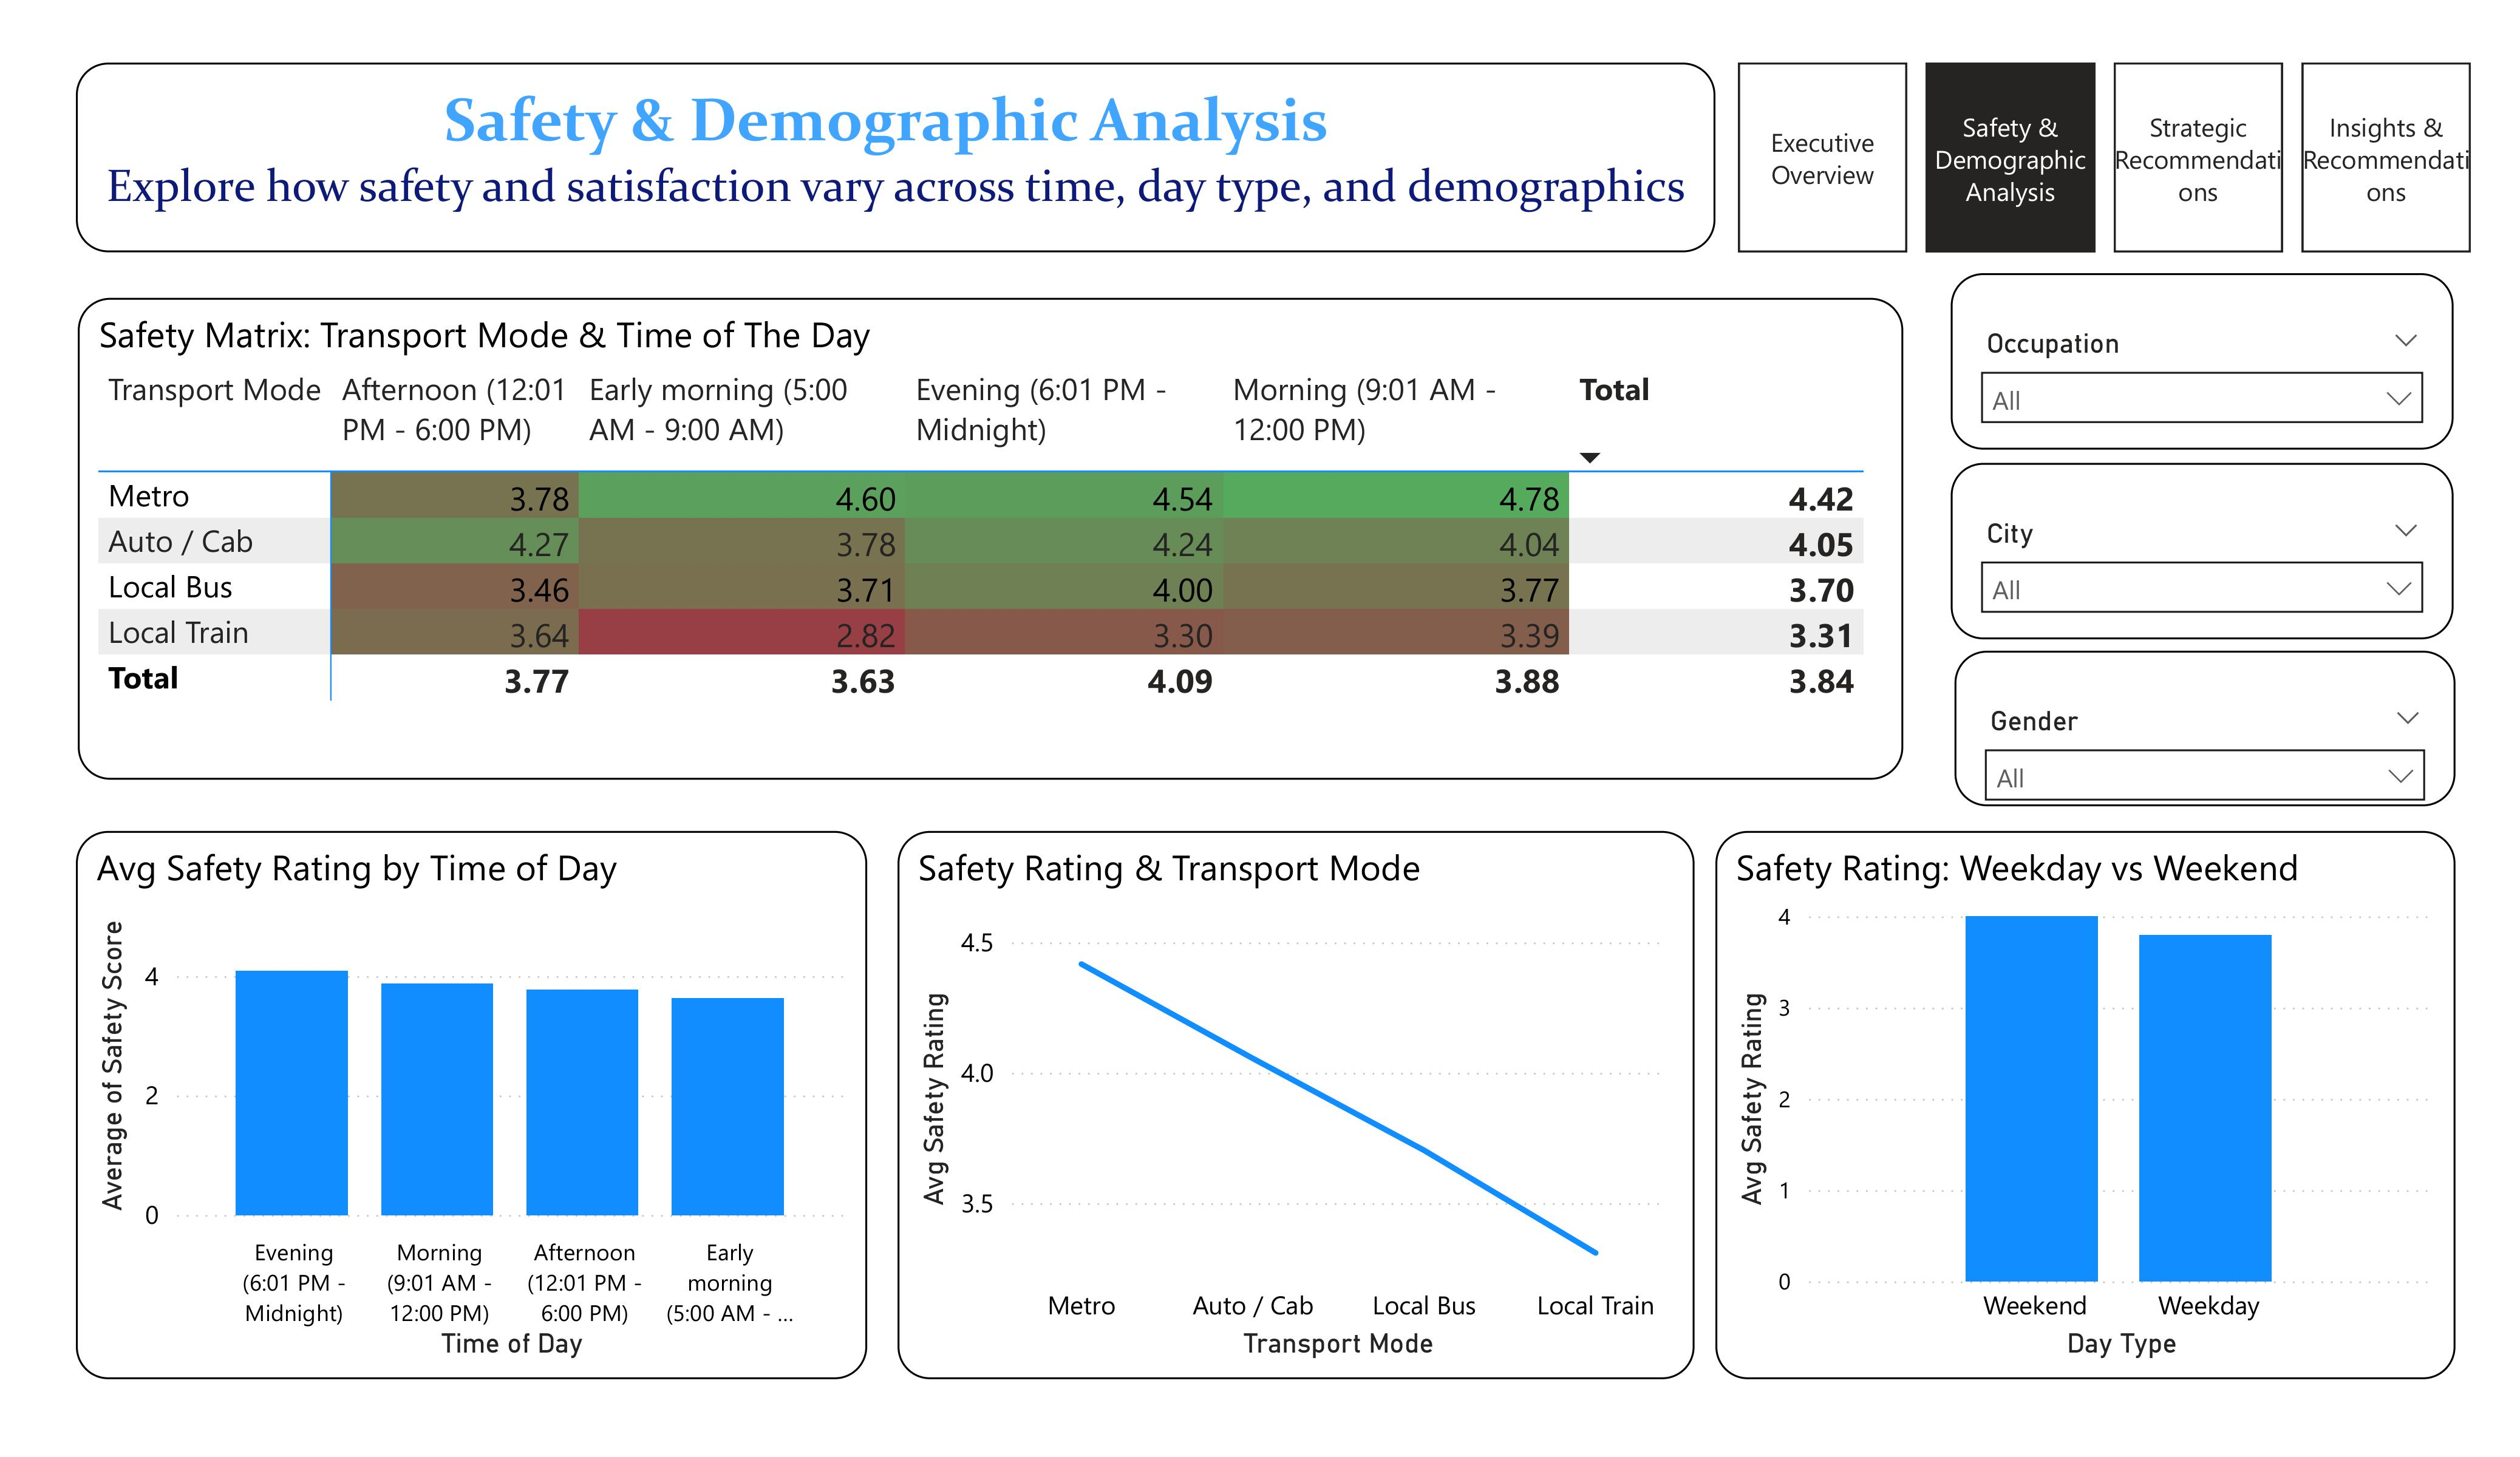

The dashboard page shown, as its layout file describes it:
{"tool":"powerbi","page":{"name":"Safety & Demographic Analysis","canvas":[1280,720],"ordinal":1},"visuals":[{"type":"clusteredColumnChart","title":"Avg Safety Rating by Time of Day","fields":{"Category":["Public Commute Data.Time of Day"],"Y":["DAX Measures.Avg Safety Rating"]},"box":[16.2,120.5,465.8,288],"z":0},{"type":"textbox","box":[16.2,8.8,864,99.9],"z":100},{"type":"slicer","title":"Filter: City","fields":{"Values":["Public Commute Data.City"]},"box":[1003.6,578.9,264.5,99.9],"z":1000},{"type":"slicer","title":"Filter: Gender","fields":{"Values":["Public Commute Data.Gender"]},"box":[1003.6,408.5,264.5,123.4],"z":2000},{"type":"slicer","title":"Filter: Occupation","fields":{"Values":["Public Commute Data.Occupation"]},"box":[1003.6,120.5,264.5,239.5],"z":3000},{"type":"lineChart","title":"Monthly Trend: Safety Rating & Commute Time","fields":{"Category":["Public Commute Data.Commute Date.Variation.Date Hierarchy.Month"],"Y":["DAX Measures.Avg Safety Rating"]},"box":[496.7,120.5,480.5,288],"z":4000},{"type":"clusteredColumnChart","title":"Safety Rating: Weekday vs Weekend","fields":{"Category":["Public Commute Data.Day Type"],"Y":["DAX Measures.Avg Safety Rating"]},"box":[496.7,424.7,480.5,277.7],"z":5000},{"type":"lineChart","title":"Monthly Trend: Commute Expense","fields":{"Category":["Public Commute Data.Commute Date.Variation.Date Hierarchy.Month"],"Y":["DAX Measures.Avg Monthly Expense"]},"box":[16.2,424.7,465.8,279.2],"z":6000},{"type":"pageNavigator","box":[891.9,8.8,387.9,99.9],"z":9000}]}

Visuals, with their boxes on the page's 1280x720 design canvas (x1, y1, x2, y2). These are canvas units, not pixel positions in the 2520x1457 screenshot, which may show the page scaled, cropped or inside an application window:
"Avg Safety Rating by Time of Day" clusteredColumnChart: bbox=[16, 120, 482, 408]
textbox: bbox=[16, 9, 880, 109]
"Filter: City" slicer: bbox=[1004, 579, 1268, 679]
"Filter: Gender" slicer: bbox=[1004, 408, 1268, 532]
"Filter: Occupation" slicer: bbox=[1004, 120, 1268, 360]
"Monthly Trend: Safety Rating & Commute Time" lineChart: bbox=[497, 120, 977, 408]
"Safety Rating: Weekday vs Weekend" clusteredColumnChart: bbox=[497, 425, 977, 702]
"Monthly Trend: Commute Expense" lineChart: bbox=[16, 425, 482, 704]
pageNavigator: bbox=[892, 9, 1280, 109]
